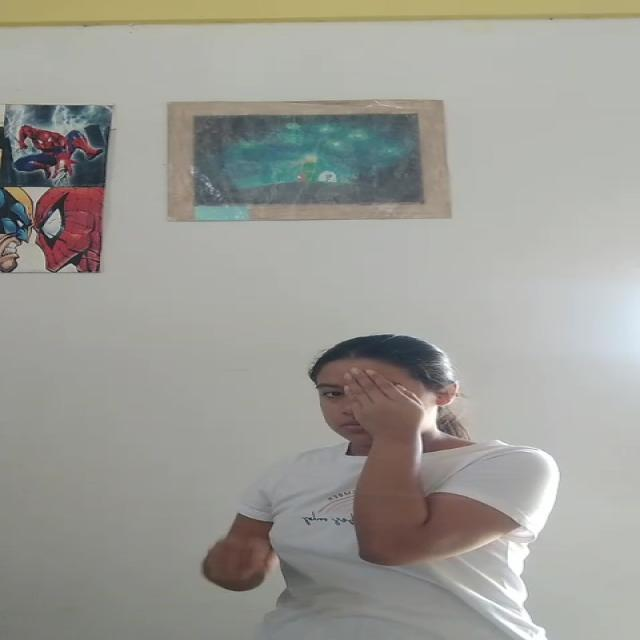7_mano_rostro: (340, 368, 438, 498)
